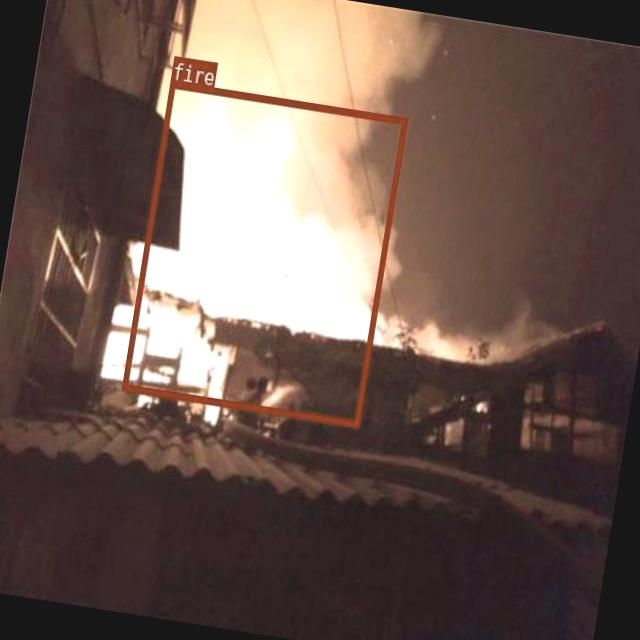fire: (121, 80, 407, 427)
